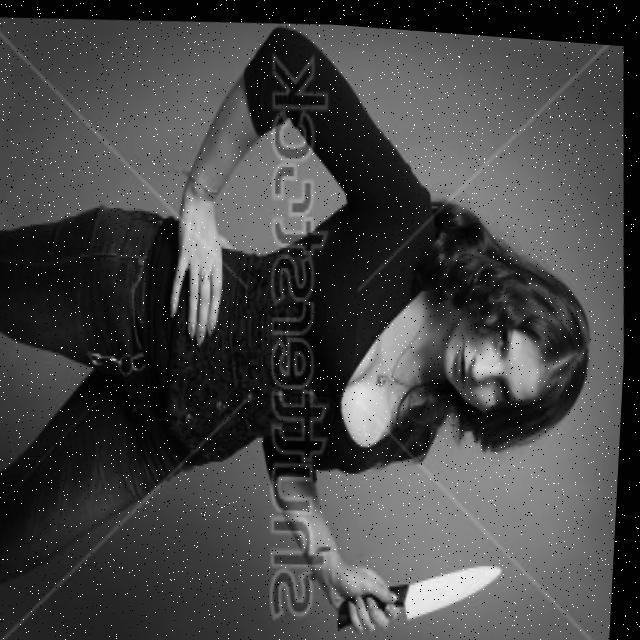knife: (402, 548, 513, 632)
